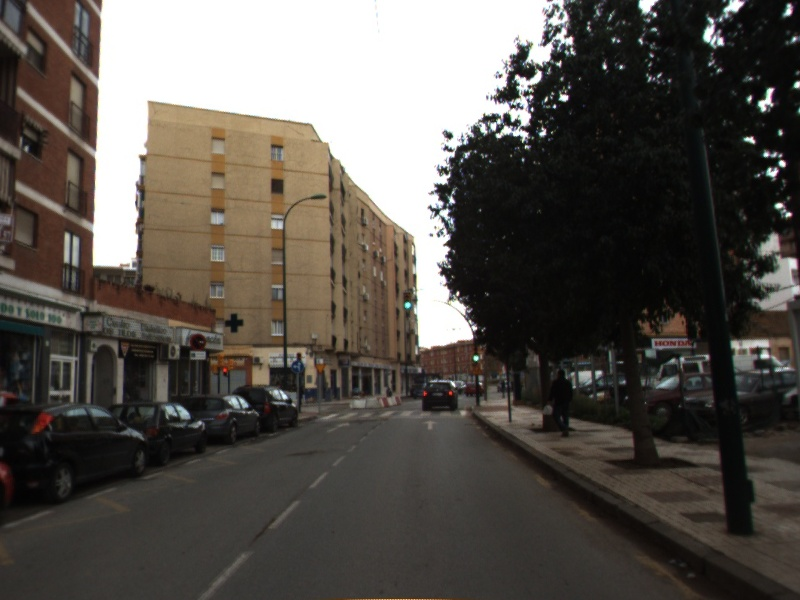STRAIGHT: (324, 420, 352, 435), (420, 418, 440, 432)
